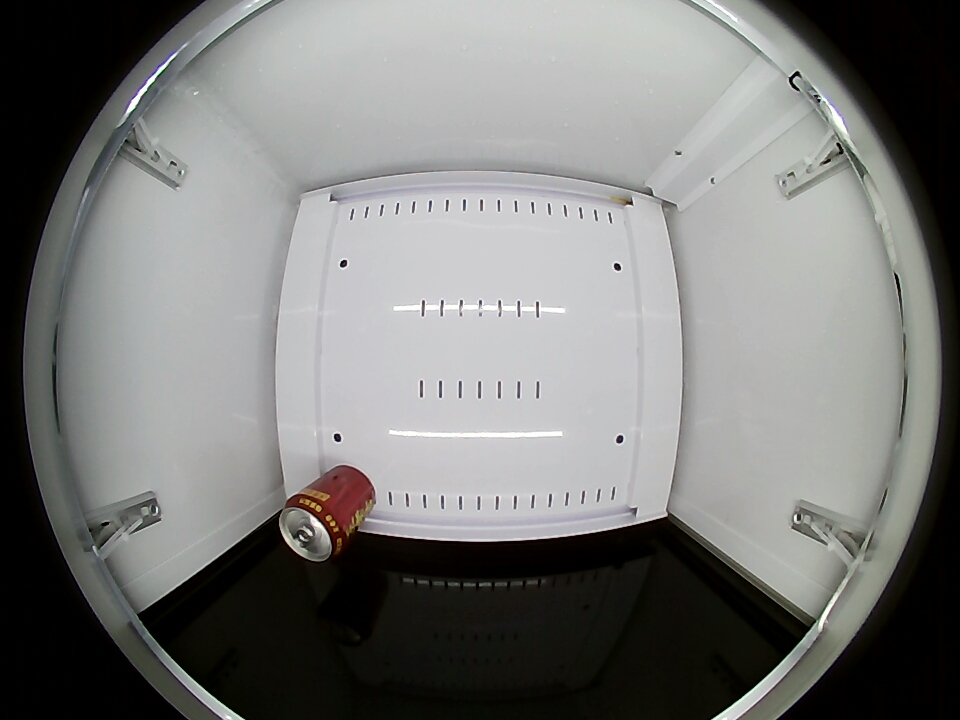wanglaoji-c: (279, 493, 351, 562)
